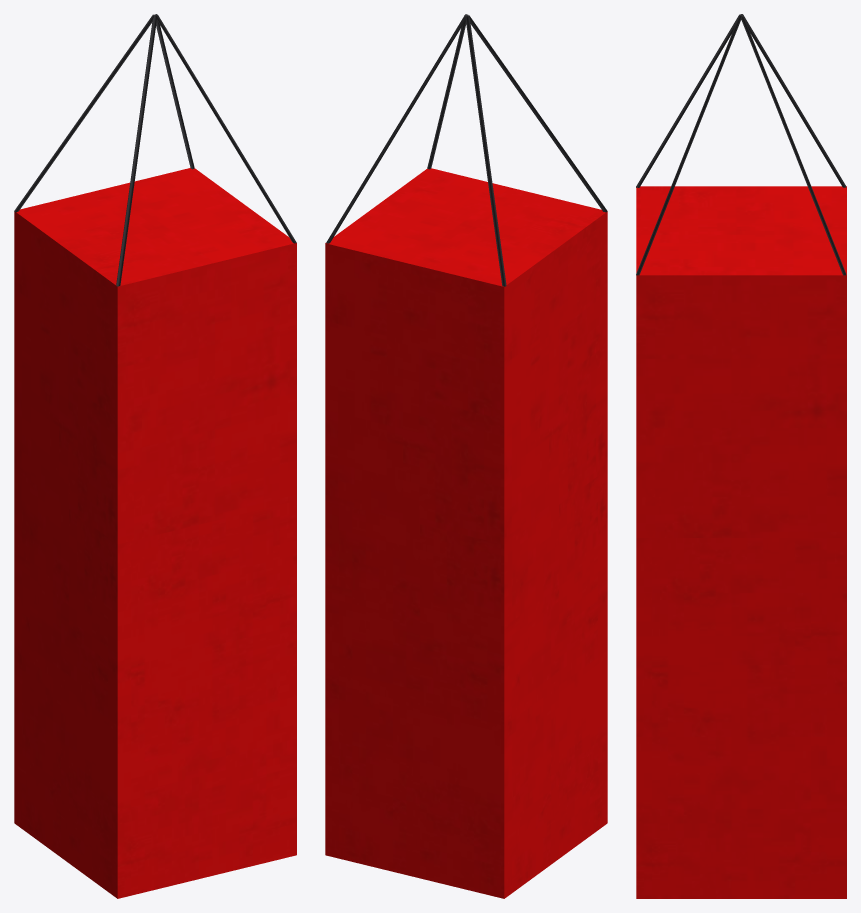
3 renders of one model, left to right at view 1: azimuth 30°, elevation 25°; view 2: azimuth 150°, elevation 25°; view 3: azimuth 270°, elevation 25°, orthographic.
Parts seen in each view (by area): view 1: 붉은 등 2; view 2: 붉은 등 2; view 3: 붉은 등 2.
Boxes of the visible parts, box(x1,y1,x2,y2) form: 붉은 등 2: box(14, 14, 296, 898); 붉은 등 2: box(325, 14, 607, 898); 붉은 등 2: box(636, 14, 846, 898).
Bounding box in the file's own units: 8.38 × 36.73 × 8.36.
